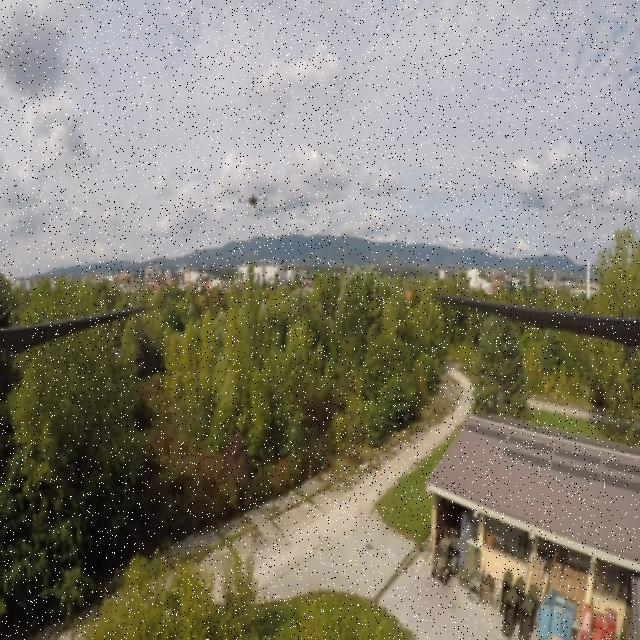UAV: (235, 188, 272, 220)
